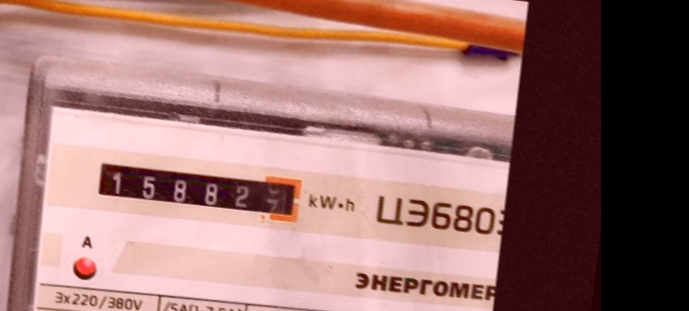1: (111, 168, 126, 195)
2: (234, 182, 253, 209)
5: (142, 173, 159, 200)
7: (265, 195, 282, 214)
8: (173, 176, 191, 203), (204, 180, 222, 207)
screen: (88, 150, 312, 232)
